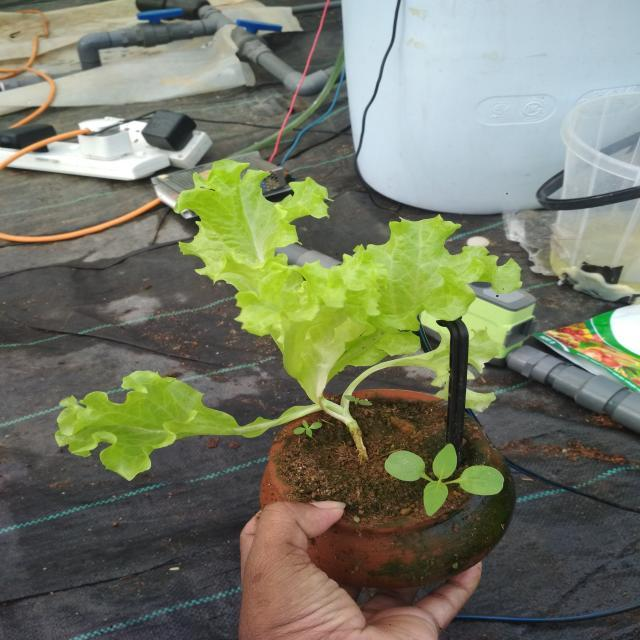Lettuce-Not-Ready-to-Harvest: (53, 151, 495, 494)
